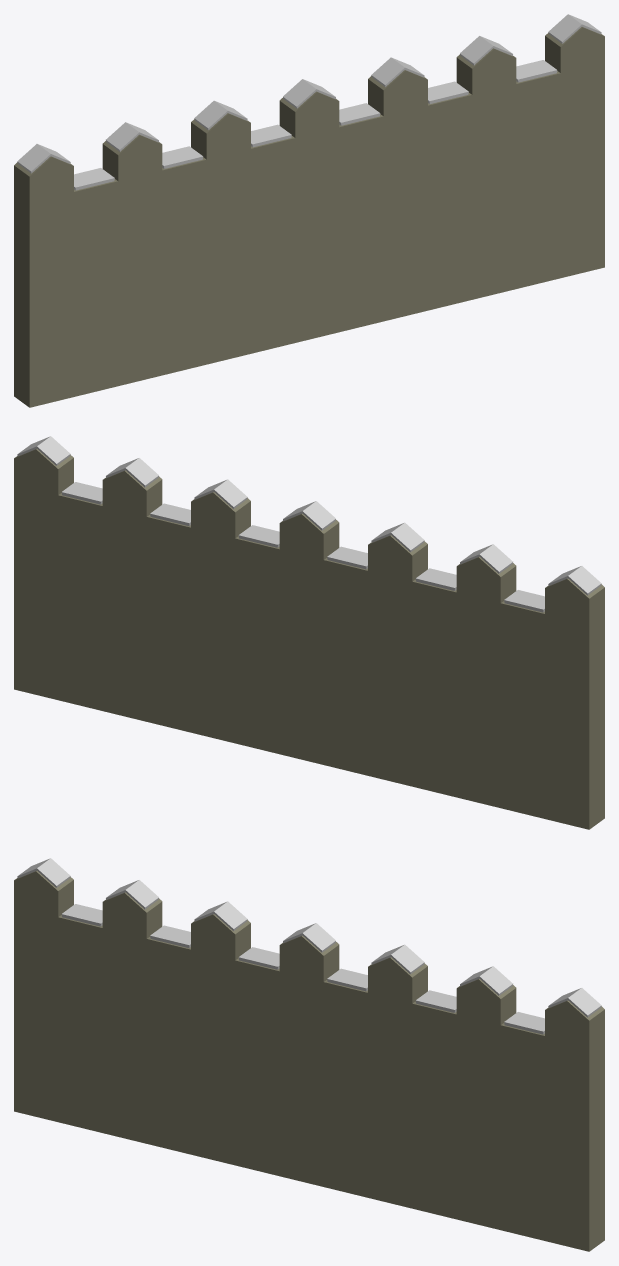
File: Barracks_fence_snow_mat.fbx
The picture shows the model from 3 angles, top to bottom: view 1: azimuth 30°, elevation 25°; view 2: azimuth 150°, elevation 25°; view 3: azimuth 330°, elevation 25°; orthographic projection.
Parts seen in each view (by area): view 1: Barracks_fence_snow_mat; view 2: Barracks_fence_snow_mat; view 3: Barracks_fence_snow_mat.
Boxes of the visible parts, left/top/right/bottom form: Barracks_fence_snow_mat: left=14, top=14, right=604, bottom=407; Barracks_fence_snow_mat: left=14, top=436, right=604, bottom=829; Barracks_fence_snow_mat: left=14, top=858, right=604, bottom=1251.
Bounding box in the file's own units: 503 × 207 × 23.78.
